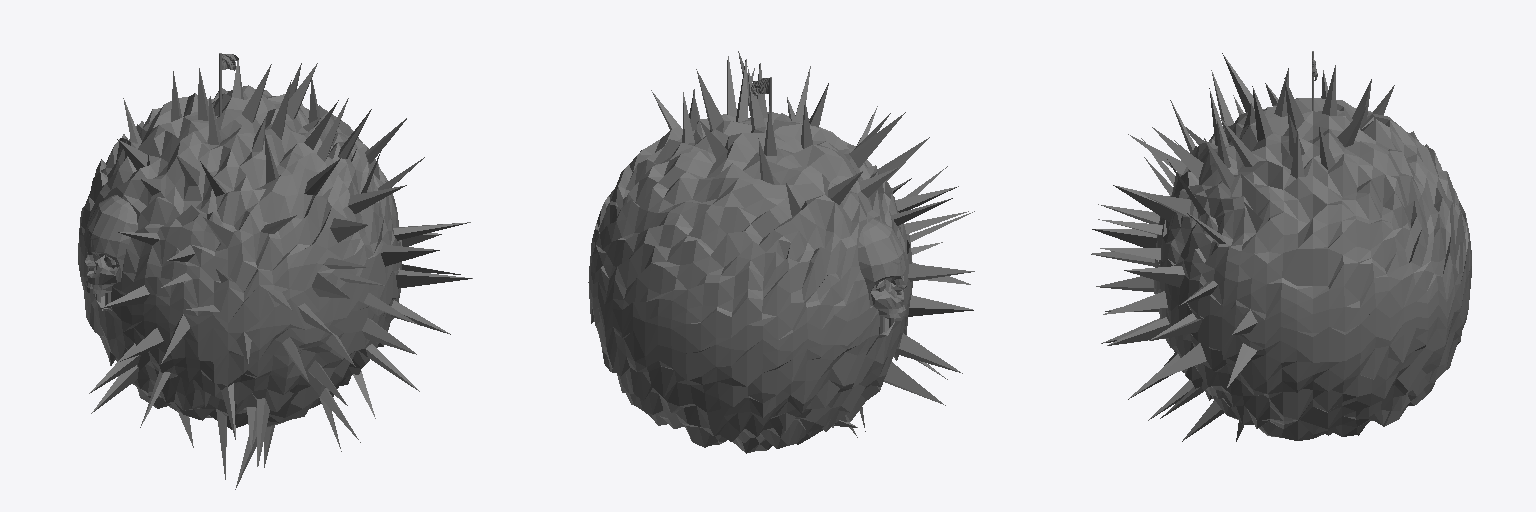
File: Fortress.obj
3 views of the same model, side by side, from view 1: azimuth 30°, elevation 25°; view 2: azimuth 150°, elevation 25°; view 3: azimuth 270°, elevation 25° (orthographic).
Parts seen in each view (by area): view 1: pCube1, skull:skull:polySurface1; view 2: pCube1, skull:skull:polySurface1; view 3: pCube1.
Part boxes in pixels (x1,y1,x2,y2): pCube1: (78, 60, 472, 489); skull:skull:polySurface1: (84, 195, 137, 293); pCube1: (588, 51, 974, 453); skull:skull:polySurface1: (858, 219, 906, 318); pCube1: (1091, 53, 1471, 441).
Bounding box in the file's own units: 32.48 × 33.2 × 29.61.